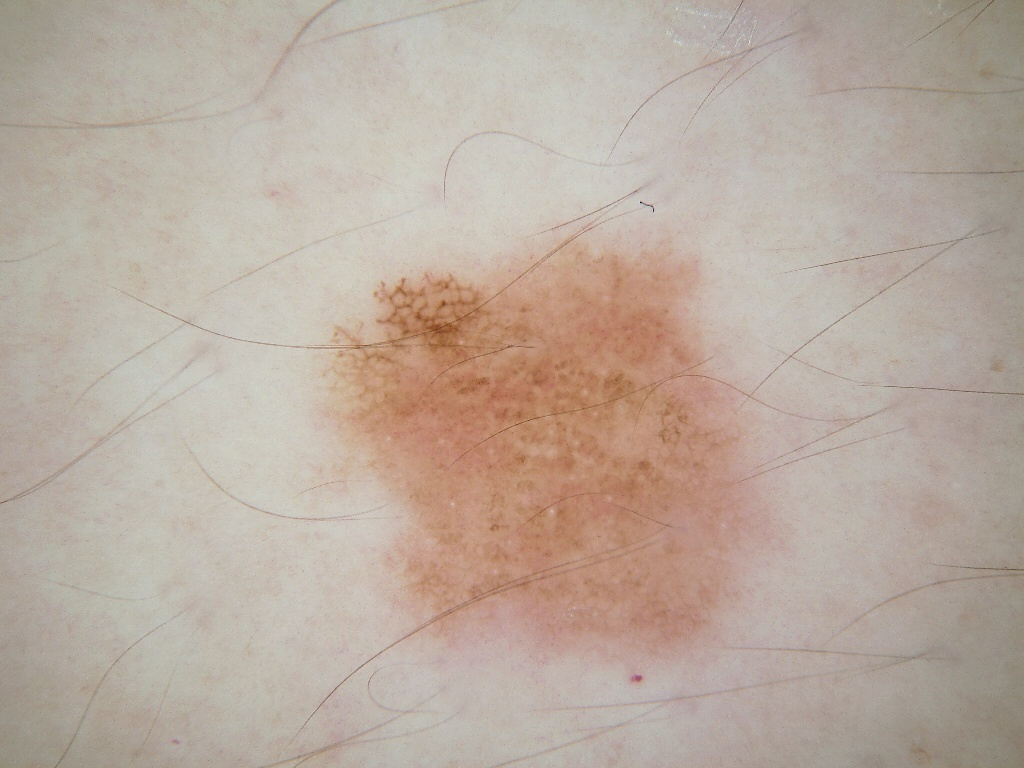Detected Lesion: (317, 231, 791, 692)
